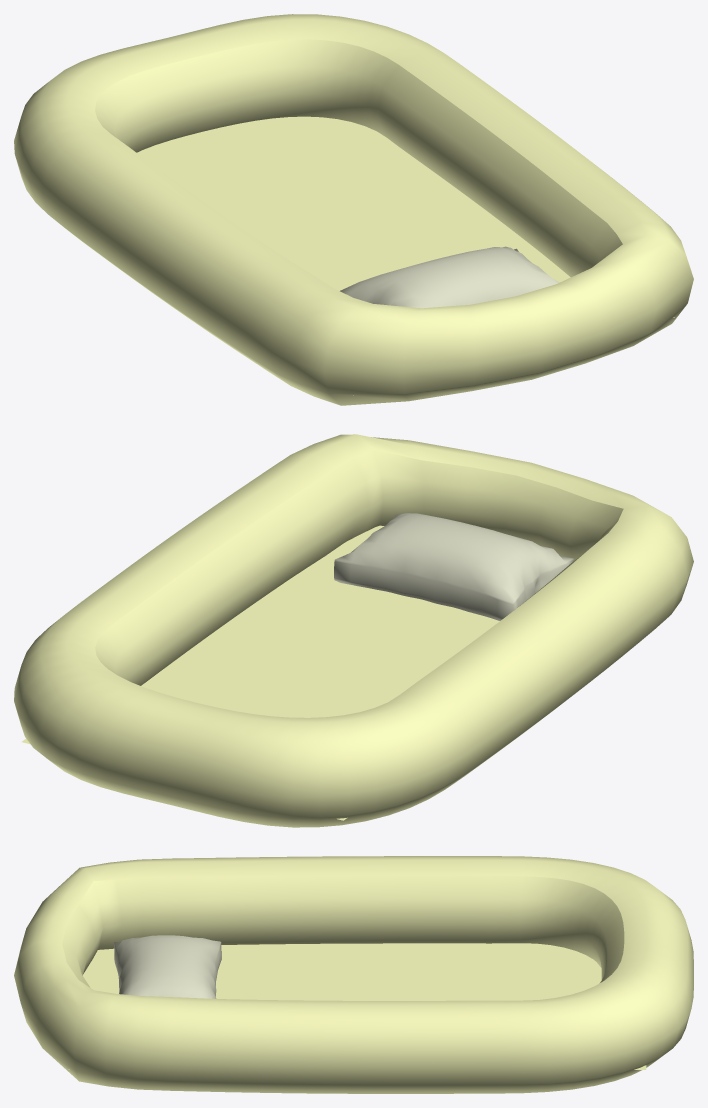
File: bed.fbx
3 views of the same model, one above another, from view 1: azimuth 30°, elevation 25°; view 2: azimuth 150°, elevation 25°; view 3: azimuth 270°, elevation 25° (orthographic). The views are drawn at different scales.
Visible parts, largest first — view 1: 环体.001, 环体, 平面, 立方体; view 2: 环体.001, 环体, 平面, 立方体; view 3: 环体.001, 环体, 平面, 立方体.
Part boxes in pixels (x1=…): 环体.001: x1=14, y1=14, x2=693, y2=405; 环体: x1=95, y1=39, x2=622, y2=277; 平面: x1=137, y1=116, x2=674, y2=395; 立方体: x1=340, y1=246, x2=559, y2=308; 环体.001: x1=14, y1=434, x2=693, y2=827; 环体: x1=95, y1=449, x2=623, y2=685; 平面: x1=21, y1=525, x2=499, y2=820; 立方体: x1=334, y1=513, x2=573, y2=620; 环体.001: x1=14, y1=856, x2=693, y2=1093; 环体: x1=62, y1=875, x2=624, y2=987; 平面: x1=68, y1=943, x2=646, y2=1069; 立方体: x1=114, y1=935, x2=221, y2=998.
Bounding box in the file's own units: 474 × 105 × 740.
